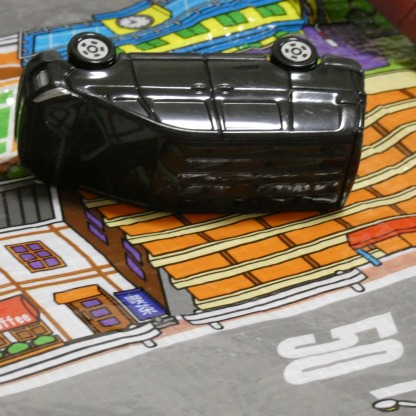car: (16, 26, 363, 212)
